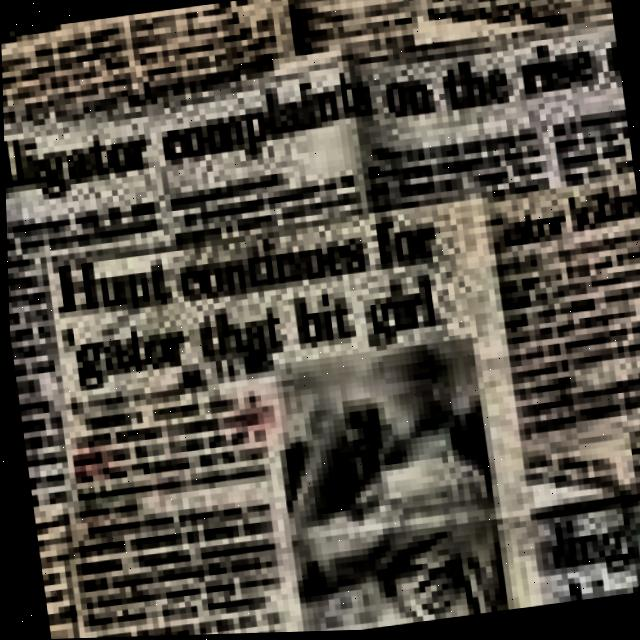paper: (46, 201, 545, 639), (1, 0, 637, 281)
